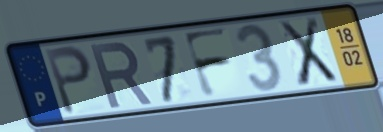3: (234, 21, 288, 95)
7: (142, 32, 179, 104)
F: (179, 25, 235, 101)
P: (41, 43, 95, 118)
R: (86, 39, 156, 111)
X: (275, 15, 341, 90)
